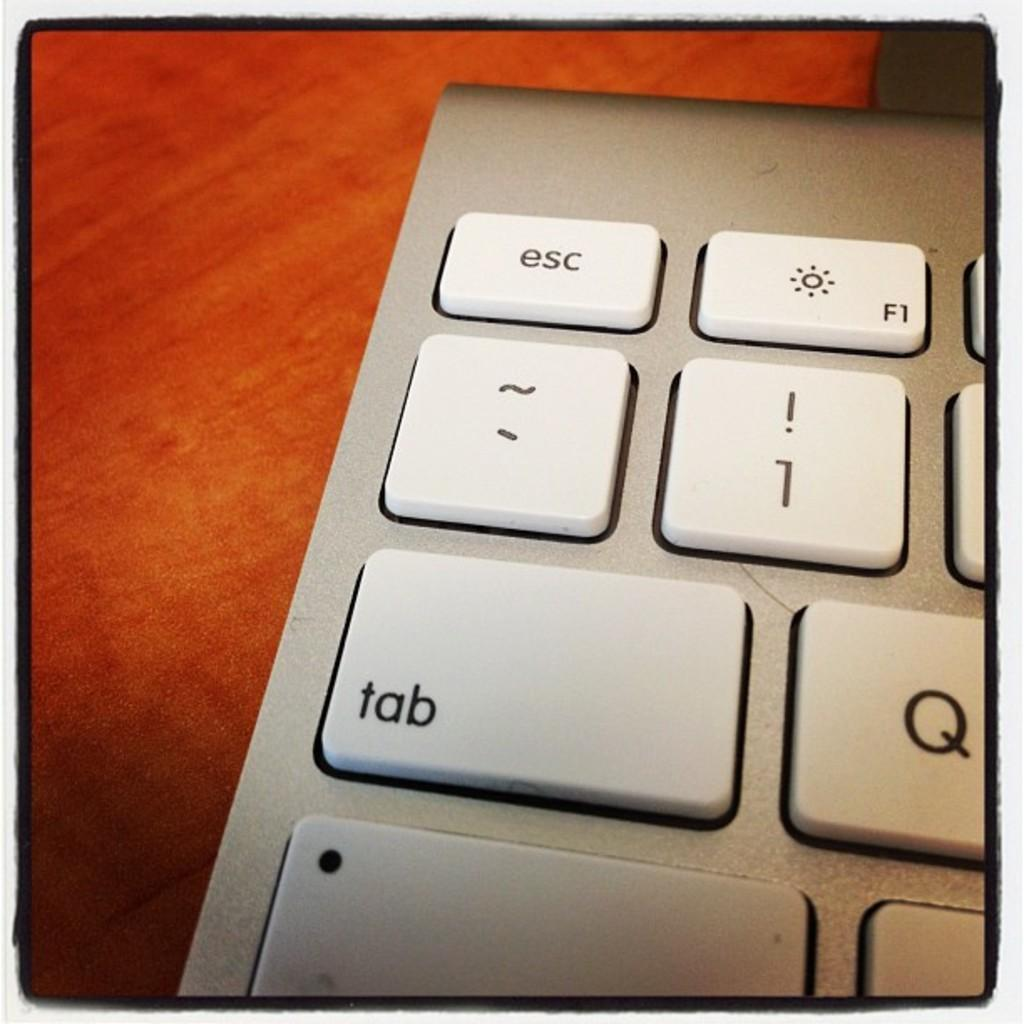Computer-keyboard: (176, 79, 984, 999)
